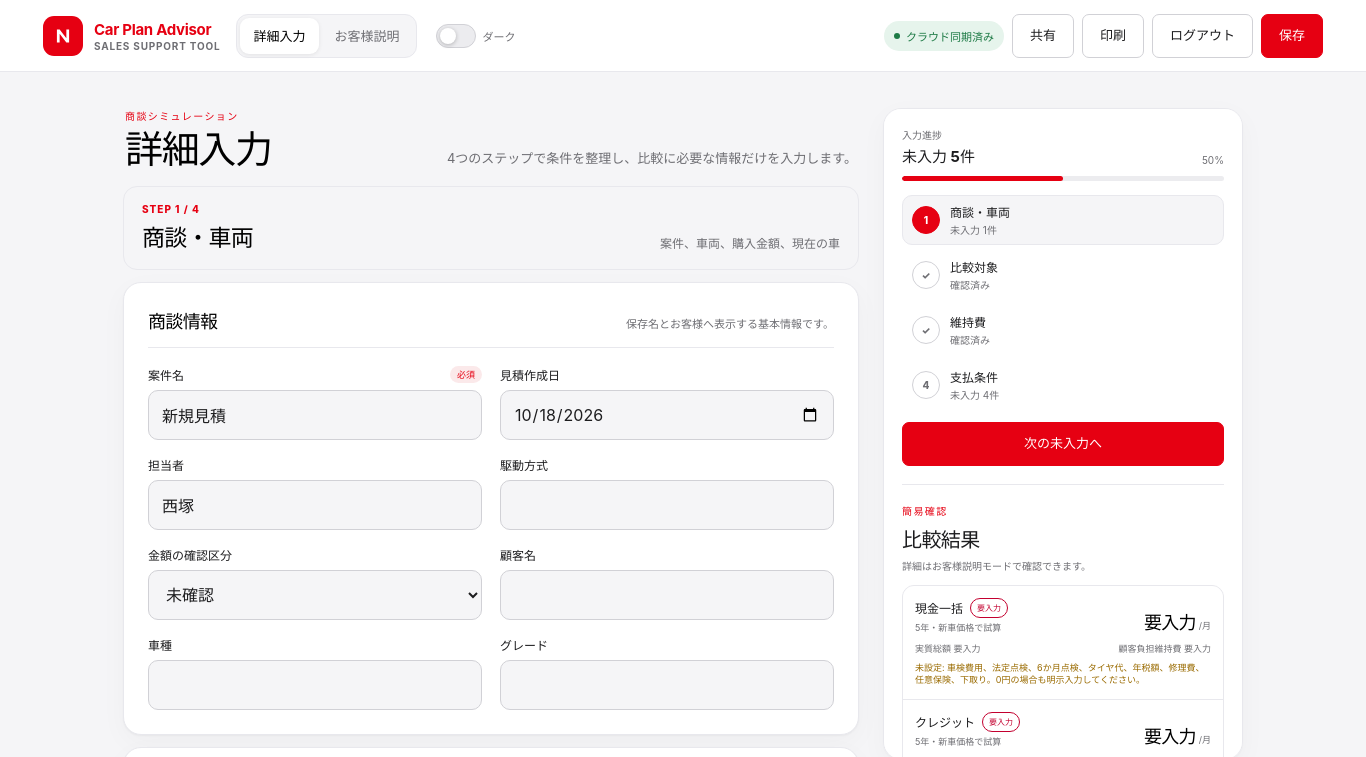
Test: App › switches credit and BVC to entered-payment calculation
(page scrolled)
Expected: the heading "詳細入力" is shown, [125,129,272,170]
Click the button "4 支払条件 未入力 4件". click: click(974, 377)
box: [902,360,1224,410]
(page scrolled)
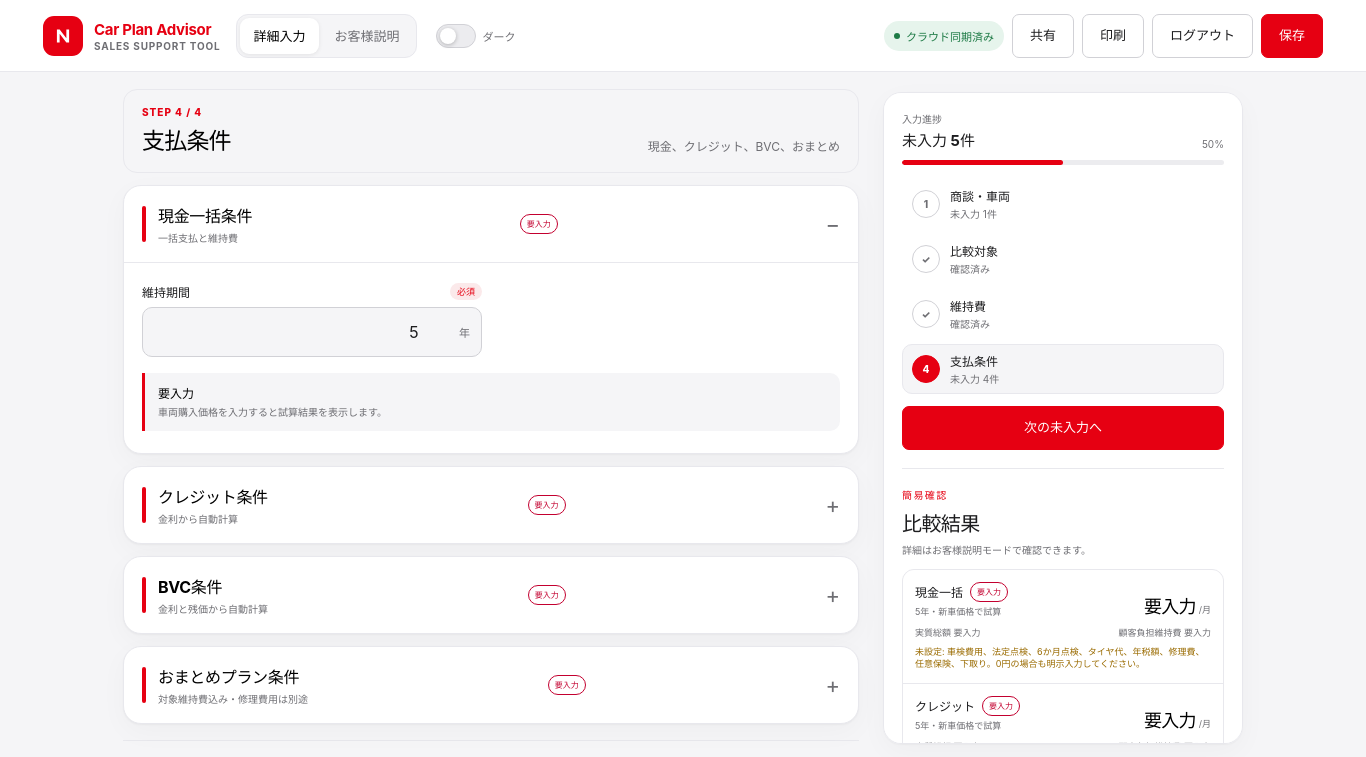
Click the heading "クレジット条件". click: click(213, 496)
box: [158,484,268,508]
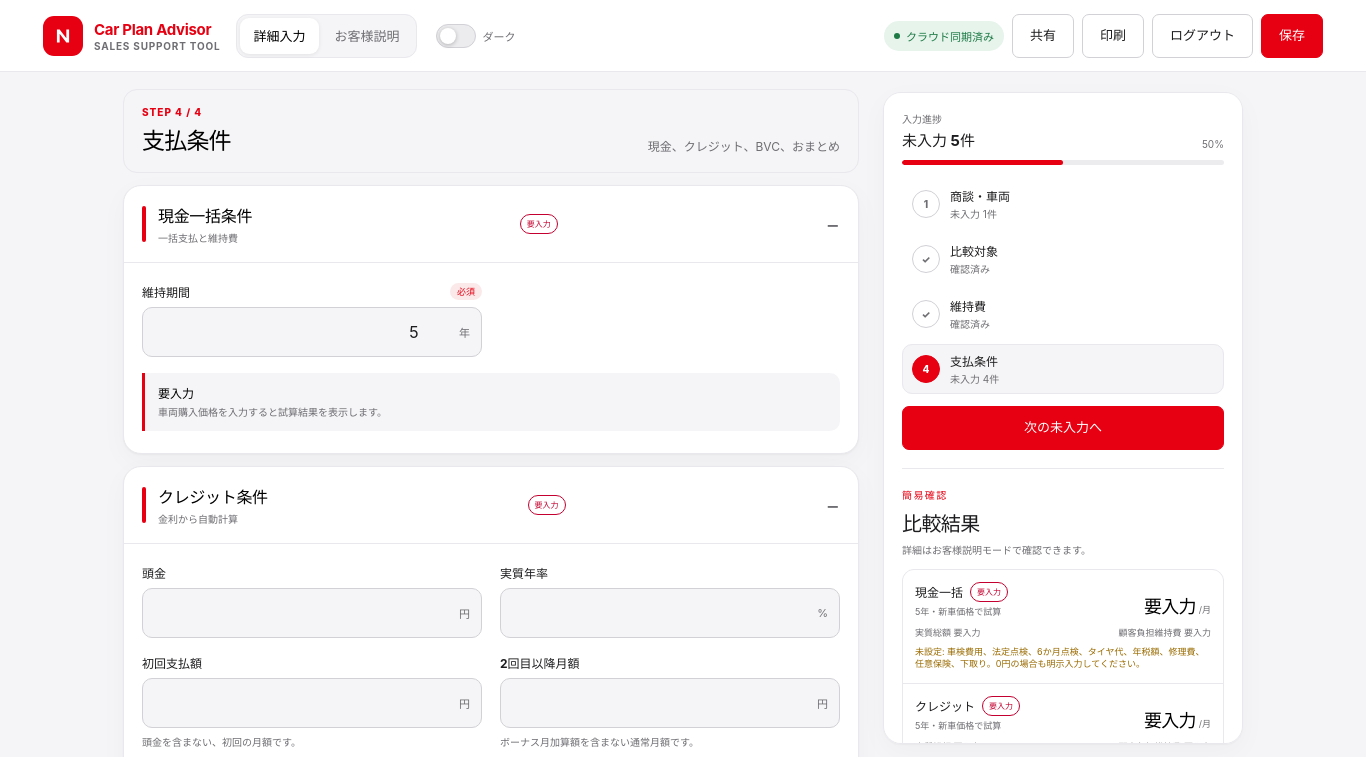
Type "45000" into the field named "2回目以降月額". click: (670, 703)
box: [500,678,840,728]
(page scrolled)
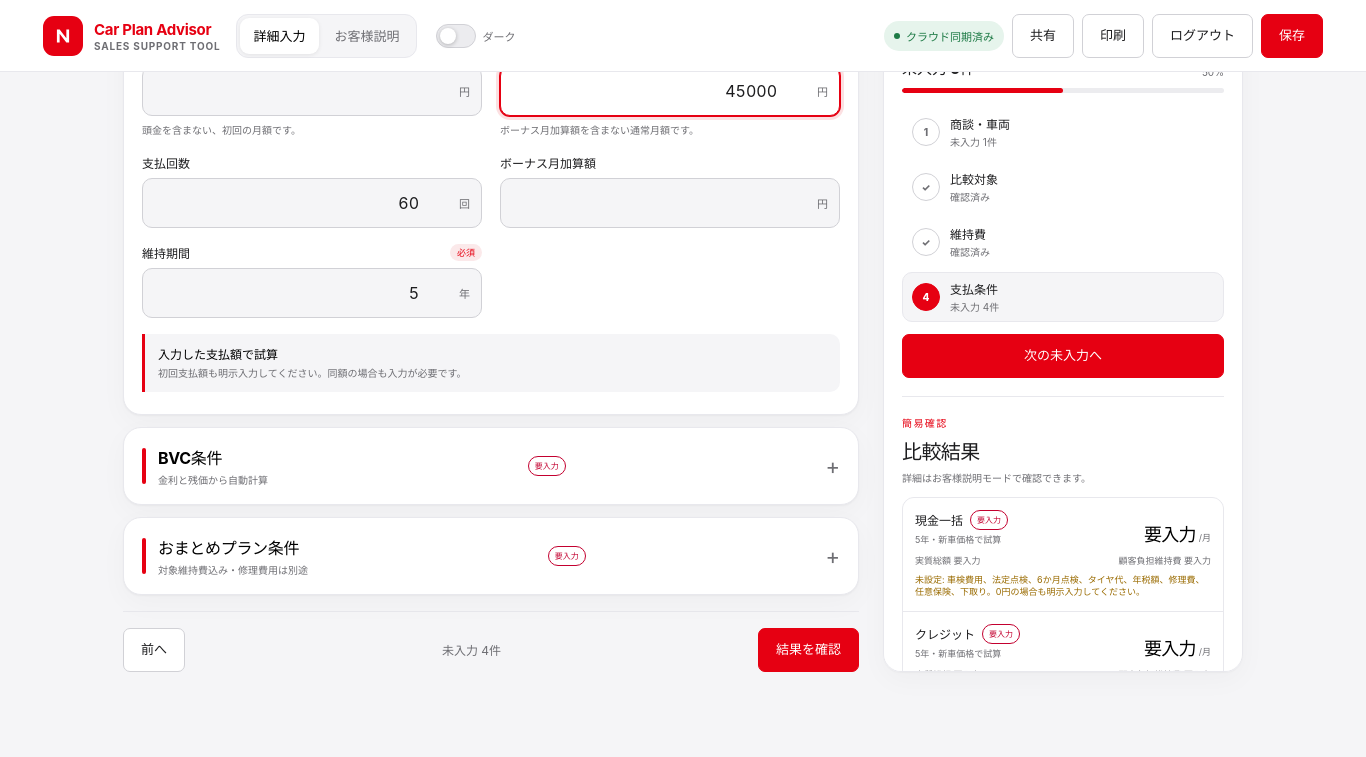
Click the heading "BVC条件". click: click(190, 458)
box: [158,448,222,468]
(page scrolled)
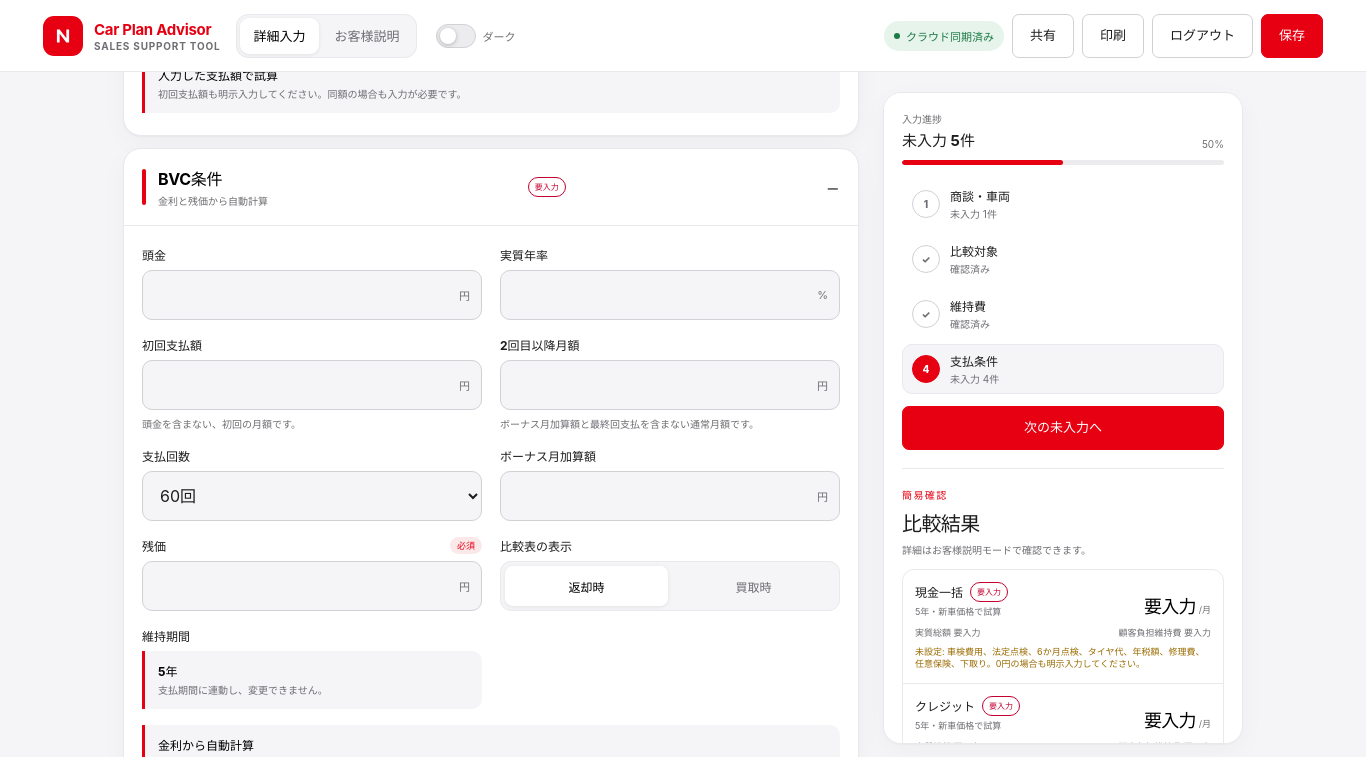
Type "55000" into the field named "初回支払額". click: (312, 385)
box: [142,360,482,410]
(page scrolled)
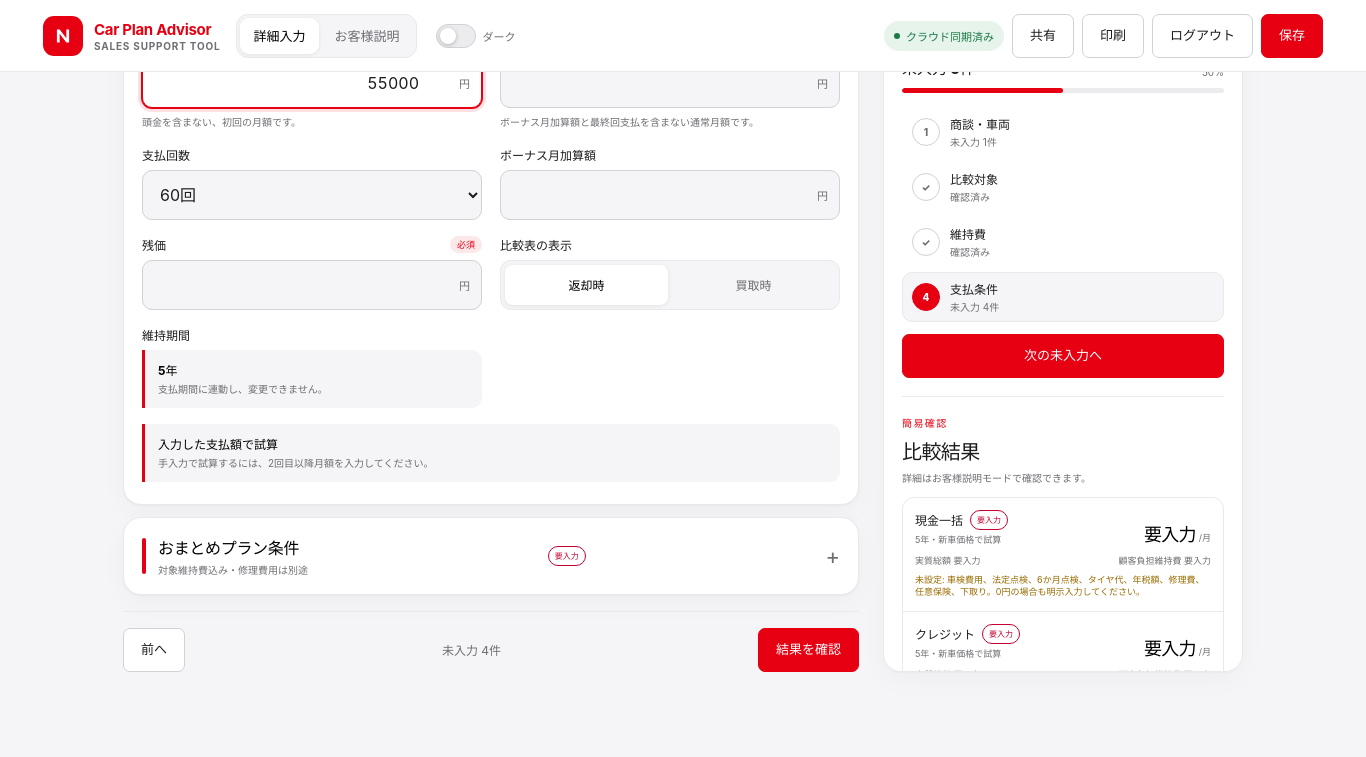
Now the text "入力した支払額で試算" is shown, box [158,437,278,452]
Now the text "手入力で試算するには、2回目以降月額を入力してください。" is shown, box [158,457,434,469]
